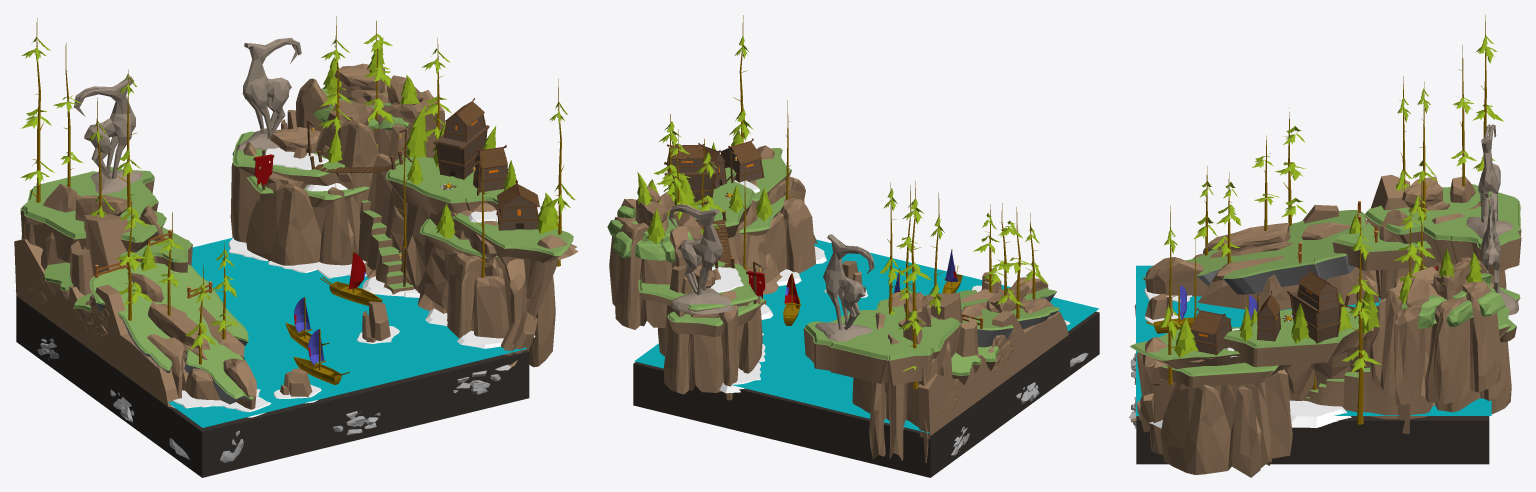
Rendered from Fjord.fbx.
The picture shows the model from 3 angles, left to right: view 1: azimuth 30°, elevation 25°; view 2: azimuth 150°, elevation 25°; view 3: azimuth 270°, elevation 25°; orthographic projection. The views are drawn at different scales.
Parts seen in each view (by area): view 1: Cube, LowPolyWaterv2, Rock_Chunks_Large_Tall_01 (1) 1, Rock_Chunks_Large_Tall_01 (4), Terrain_Rock_Cliff_Edging_Tall_01, Rock_Chunks_Large_Tall_01 1, Terrain_Plateau_Grass_01, Rock_Chunks_Large_Tall_01 (3) 1, Prop_Statue_Gazelle_01 (1), Terrain_Plateau_Grass_02 (4), Prop_Statue_Gazelle_01, Rock_Large_17 (+30 smaller); view 2: Cube, LowPolyWaterv2, Rock_Chunks_Large_Tall_01 (1) 1, Rock_Chunks_Large_Tall_01 (4), Rock_Chunks_Large_Tall_01 (2) 1, Rock_Chunks_Large_Tall_01 1, Prop_Statue_Gazelle_01, Terrain_Plateau_Grass_02 (9), Prop_Statue_Gazelle_01 (1), Terrain_Plateau_Grass_02 (6), Terrain_Plateau_Grass_02 (10), Terrain_Rock_Cliff_Edging_Tall_01 (+21 smaller); view 3: Rock_Chunks_Large_Tall_01 (4), Rock_Chunks_Large_Tall_01 1, Cube, Rock_Chunks_Large_Tall_01 (3) 1, Terrain_Plateau_Grass_01, Terrain_Plateau_Grass_02 (4), Terrain_Plateau_Grass_02 (10), Terrain_Rock_Cliff_Edging_Tall_01, Rock_Chunks_Large_Tall_01 (2) 1, LowPolyWaterv2, Terrain_Modular_Tiles_Grass_Dirt_Stairs_03, Terrain_Plateau_Grass_02 (5) (+24 smaller).
Part boxes in pixels (x1,y1,x2,y2): Cube: (16,296,529,477); LowPolyWaterv2: (15,237,526,427); Rock_Chunks_Large_Tall_01 (1) 1: (230,127,360,265); Rock_Chunks_Large_Tall_01 (4): (295,63,445,214); Terrain_Rock_Cliff_Edging_Tall_01: (268,147,578,370); Rock_Chunks_Large_Tall_01 1: (444,232,555,367); Terrain_Plateau_Grass_01: (89,262,253,404); Rock_Chunks_Large_Tall_01 (3) 1: (127,272,256,409); Prop_Statue_Gazelle_01 (1): (73,76,142,194); Terrain_Plateau_Grass_02 (4): (386,154,504,214); Prop_Statue_Gazelle_01: (232,37,301,155); Rock_Large_17: (70,214,130,295); Cube: (633,311,1099,477); LowPolyWaterv2: (634,239,1098,433); Rock_Chunks_Large_Tall_01 (1) 1: (657,265,762,400); Rock_Chunks_Large_Tall_01 (4): (609,186,702,329); Rock_Chunks_Large_Tall_01 (2) 1: (852,291,952,462); Rock_Chunks_Large_Tall_01 1: (762,176,815,273); Prop_Statue_Gazelle_01: (668,204,734,314); Terrain_Plateau_Grass_02 (9): (829,324,944,383); Prop_Statue_Gazelle_01 (1): (815,234,874,341); Terrain_Plateau_Grass_02 (6): (865,299,961,385); Terrain_Plateau_Grass_02 (10): (803,310,921,370); Terrain_Rock_Cliff_Edging_Tall_01: (711,145,782,294); Rock_Chunks_Large_Tall_01 (4): (1370,257,1501,405); Rock_Chunks_Large_Tall_01 1: (1149,369,1292,477); Cube: (1136,416,1489,464); Rock_Chunks_Large_Tall_01 (3) 1: (1145,222,1379,311); Terrain_Plateau_Grass_01: (1143,210,1366,294); Terrain_Plateau_Grass_02 (4): (1223,307,1368,367); Terrain_Plateau_Grass_02 (10): (1415,197,1521,275); Terrain_Rock_Cliff_Edging_Tall_01: (1128,327,1373,421); Rock_Chunks_Large_Tall_01 (2) 1: (1379,176,1506,300); LowPolyWaterv2: (1136,265,1491,415); Terrain_Modular_Tiles_Grass_Dirt_Stairs_03: (1303,365,1410,434); Terrain_Plateau_Grass_02 (5): (1332,222,1439,271).
Bounding box in the file's own units: 12.86 × 10.05 × 11.64.
